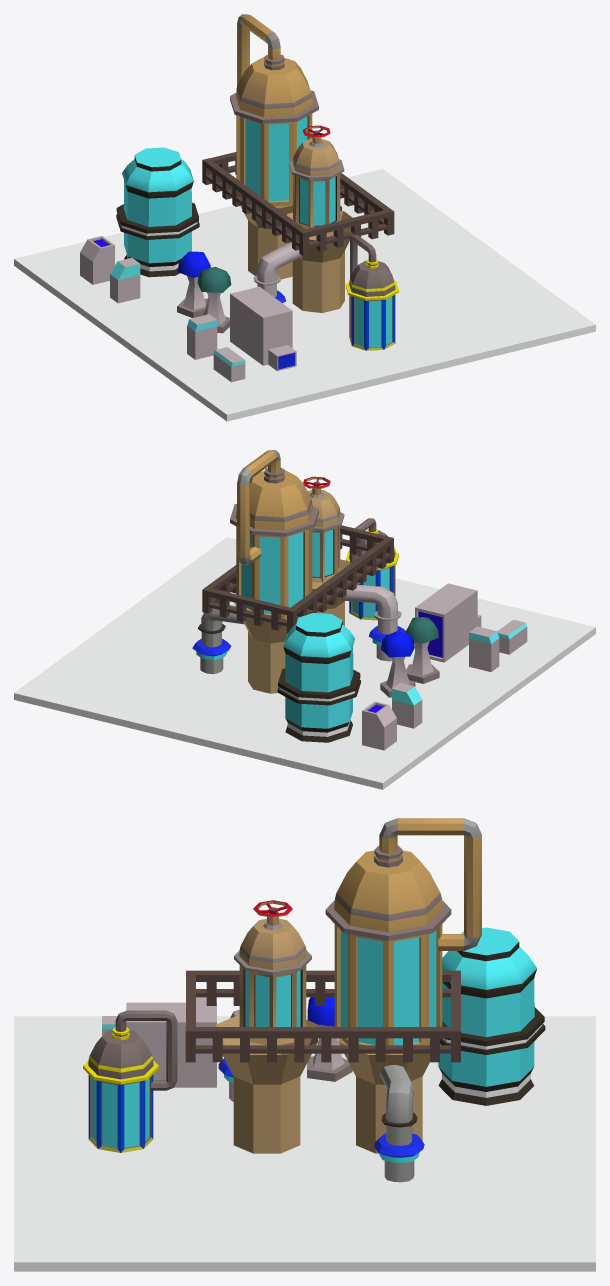
File: Clear water  5.fbx
3 views of the same model, one above another, from view 1: azimuth 30°, elevation 25°; view 2: azimuth 150°, elevation 25°; view 3: azimuth 270°, elevation 25° (orthographic). The views are drawn at different scales.
Visible parts, largest first — view 1: Cube.018, Cylinder.026, Cylinder.029, Cube.023, Cylinder.027, Cylinder.025, Cube.030, Cube.019, Cube.022, Cube.028, Cylinder.030, Cylinder.028 (+6 smaller); view 2: Cube.018, Cylinder.026, Cylinder.029, Cube.030, Cube.023, Cylinder.025, Cube.019, Cube.020, Cube.026, Cube.024, Cylinder.027, Cylinder.028 (+7 smaller); view 3: Cube.018, Cylinder.026, Cylinder.029, Cube.023, Cylinder.027, Cylinder.025, Cube.021, Cube.030, Cube.024, Cube.019, Cylinder.030, Cube.020.
Part boxes in pixels (left/top/right/bottom): Cube.018: left=14, top=169, right=595, bottom=421; Cylinder.026: left=230, top=14, right=318, bottom=206; Cylinder.029: left=116, top=147, right=199, bottom=277; Cube.023: left=240, top=205, right=352, bottom=312; Cylinder.027: left=345, top=235, right=398, bottom=350; Cylinder.025: left=289, top=125, right=344, bottom=228; Cube.030: left=230, top=286, right=292, bottom=365; Cube.019: left=202, top=158, right=305, bottom=250; Cube.022: left=299, top=210, right=388, bottom=255; Cube.028: left=80, top=236, right=114, bottom=284; Cylinder.030: left=177, top=251, right=210, bottom=317; Cylinder.028: left=197, top=267, right=231, bottom=333; Cube.018: left=14, top=537, right=595, bottom=789; Cylinder.026: left=230, top=450, right=318, bottom=619; Cylinder.029: left=277, top=613, right=360, bottom=742; Cube.030: left=415, top=583, right=477, bottom=662; Cube.023: left=234, top=559, right=351, bottom=693; Cylinder.025: left=303, top=476, right=344, bottom=582; Cube.019: left=287, top=539, right=390, bottom=632; Cube.020: left=202, top=588, right=289, bottom=630; Cube.026: left=341, top=584, right=405, bottom=661; Cube.024: left=192, top=605, right=244, bottom=674; Cylinder.027: left=345, top=518, right=398, bottom=620; Cylinder.028: left=406, top=617, right=439, bottom=683; Cube.018: left=14, top=1016, right=595, bottom=1271; Cylinder.026: left=325, top=818, right=481, bottom=1054; Cylinder.029: left=438, top=927, right=545, bottom=1105; Cube.023: left=216, top=1014, right=440, bottom=1153; Cylinder.027: left=83, top=1010, right=177, bottom=1152; Cylinder.025: left=234, top=900, right=311, bottom=1045; Cube.021: left=185, top=1027, right=457, bottom=1062; Cube.030: left=126, top=1002, right=216, bottom=1087; Cube.024: left=374, top=1065, right=424, bottom=1182; Cube.019: left=196, top=970, right=460, bottom=1005; Cylinder.030: left=307, top=997, right=352, bottom=1081; Cube.020: left=451, top=975, right=460, bottom=1062.
Size of the model in its own units: 812 by 508 by 812.
